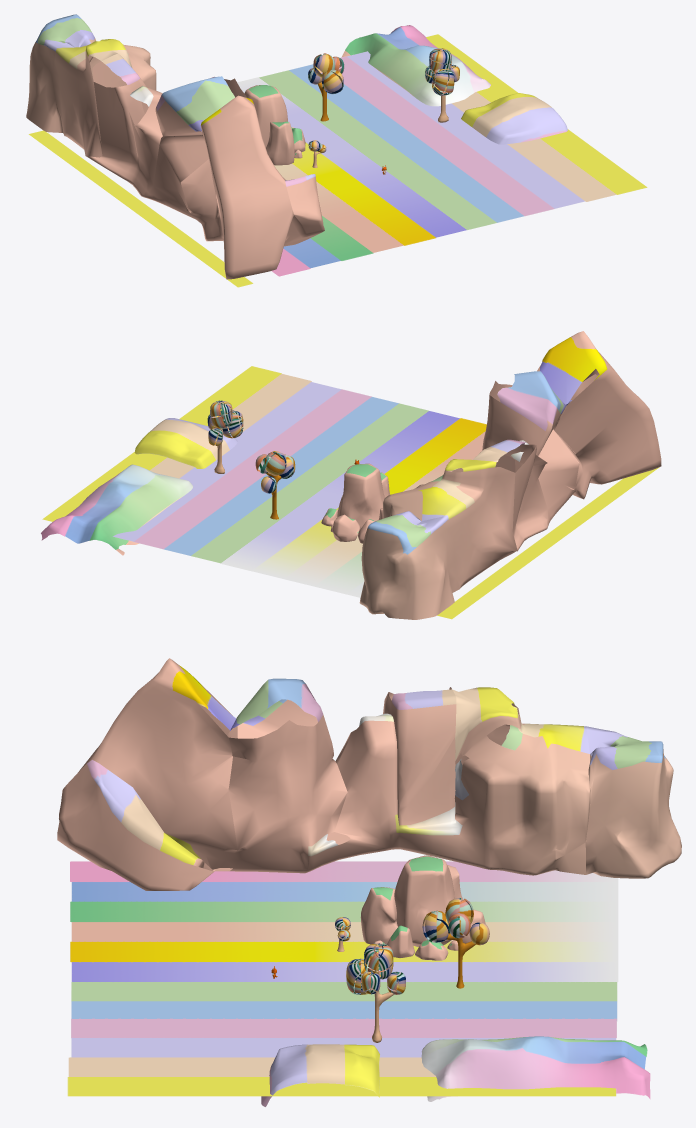
The model's file is Environment_TEST.fbx.
3 views of the same model, one above another, from view 1: azimuth 30°, elevation 25°; view 2: azimuth 150°, elevation 25°; view 3: azimuth 270°, elevation 25° (orthographic). The views are drawn at different scales.
Visible parts, largest first — view 1: Falaise_cote_lowpoly, Floor, Arbre3_big_lowpoly.001, Arbre2_big_lowpoly; view 2: Falaise_cote_lowpoly, Floor, Arbre3_big_lowpoly.001, Arbre2_big_lowpoly; view 3: Falaise_cote_lowpoly, Floor, Arbre3_big_lowpoly.001, Arbre2_big_lowpoly.
Part boxes in pixels (x1,y1,x2,y2): Falaise_cote_lowpoly: [26, 14, 567, 279]; Floor: [28, 34, 647, 287]; Arbre3_big_lowpoly.001: [425, 48, 459, 122]; Arbre2_big_lowpoly: [308, 53, 344, 121]; Falaise_cote_lowpoly: [41, 331, 661, 619]; Floor: [42, 366, 659, 619]; Arbre3_big_lowpoly.001: [207, 400, 243, 473]; Arbre2_big_lowpoly: [255, 451, 295, 519]; Falaise_cote_lowpoly: [57, 658, 681, 1106]; Floor: [67, 861, 618, 1096]; Arbre3_big_lowpoly.001: [346, 943, 405, 1042]; Arbre2_big_lowpoly: [422, 898, 489, 988].
Size of the model in its own units: 50.7 by 18.44 by 52.19.
